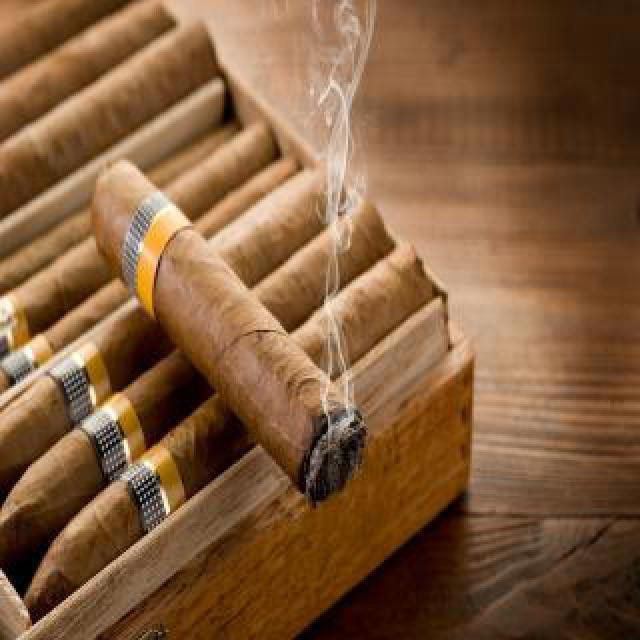Smoke: (286, 6, 382, 446)
